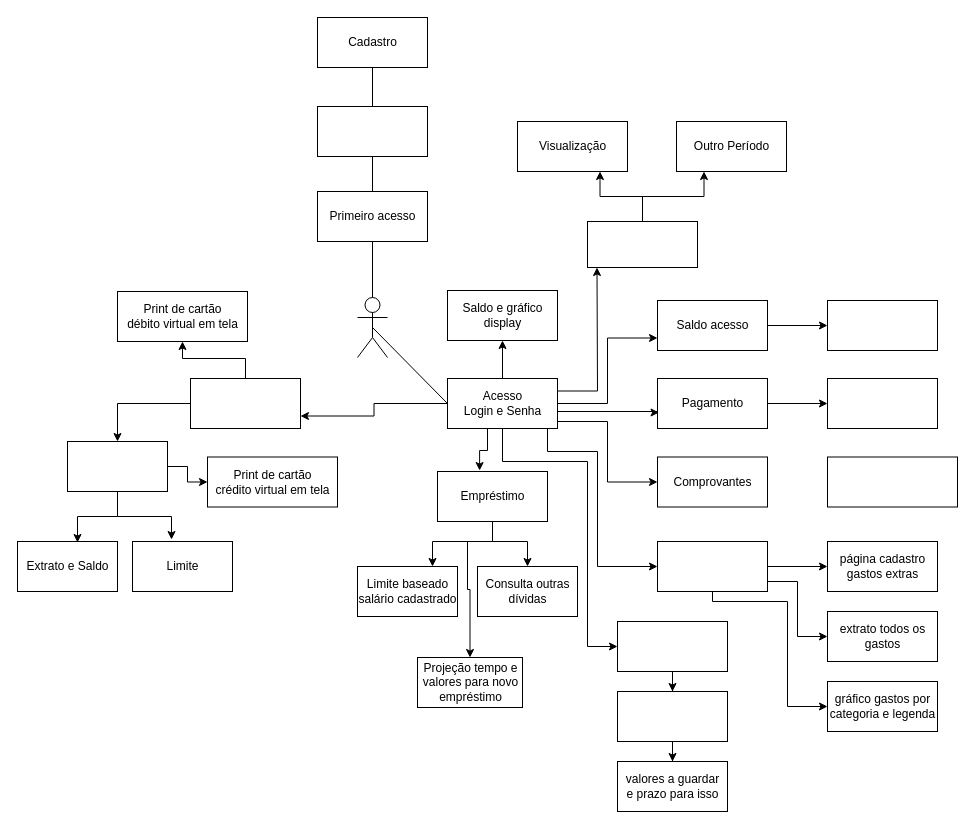
Image size: 975x829. Some labels were removed from this diagram. Each missing label, with the box of its shape:
Acesso tipo comprovante: (826, 300, 938, 350)
adicionar plano: (616, 690, 728, 742)
Cartão Crédito: (66, 440, 168, 492)
Cartões Virtuais: (190, 378, 300, 428)
Cliente: (356, 296, 388, 358)
Controle e monito- ramento de gastos: (656, 540, 768, 592)
Extrato: (586, 220, 698, 268)
Impressão de acordo com número movimentação: (826, 456, 958, 507)
Login e senha: (316, 106, 428, 156)
Pix: (826, 378, 938, 428)
Planejamentos: (616, 620, 728, 672)
